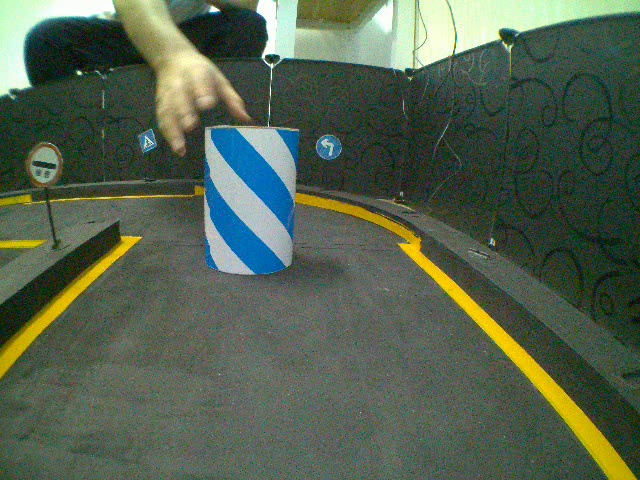bucket: (202, 124, 298, 275)
